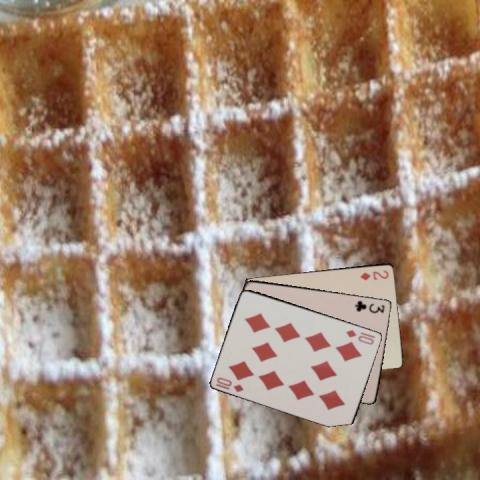10d: (344, 327, 376, 346), (214, 374, 245, 393)
2d: (358, 268, 390, 282)
3c: (352, 297, 386, 315)
